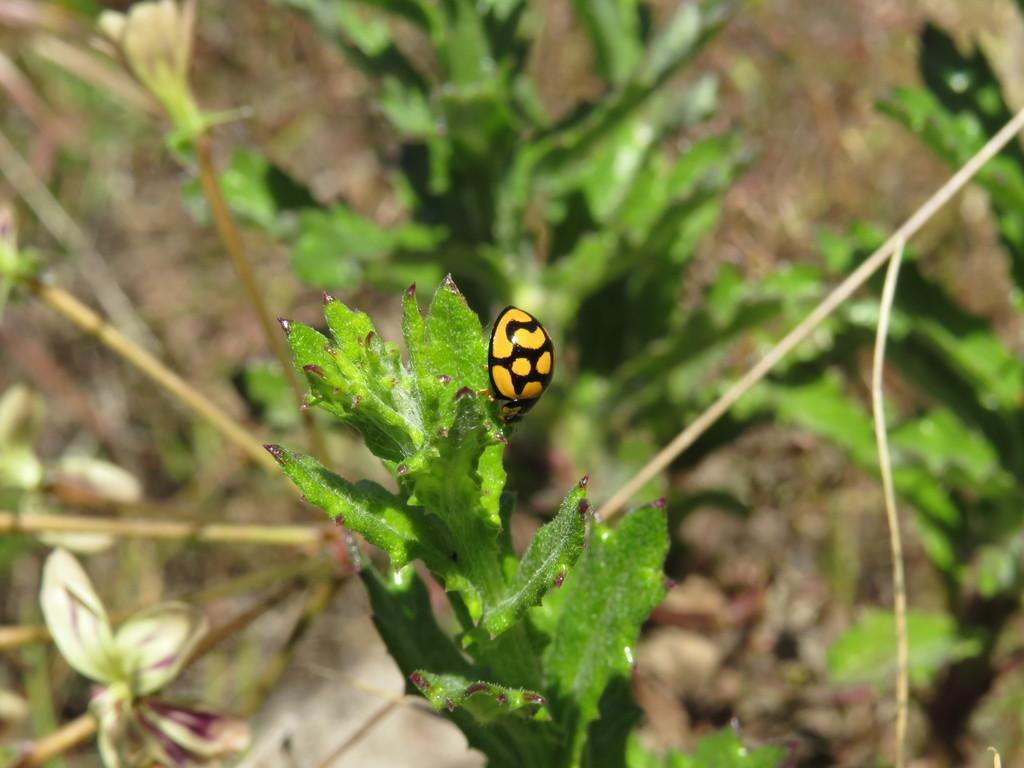ladybug: (453, 305, 561, 431)
